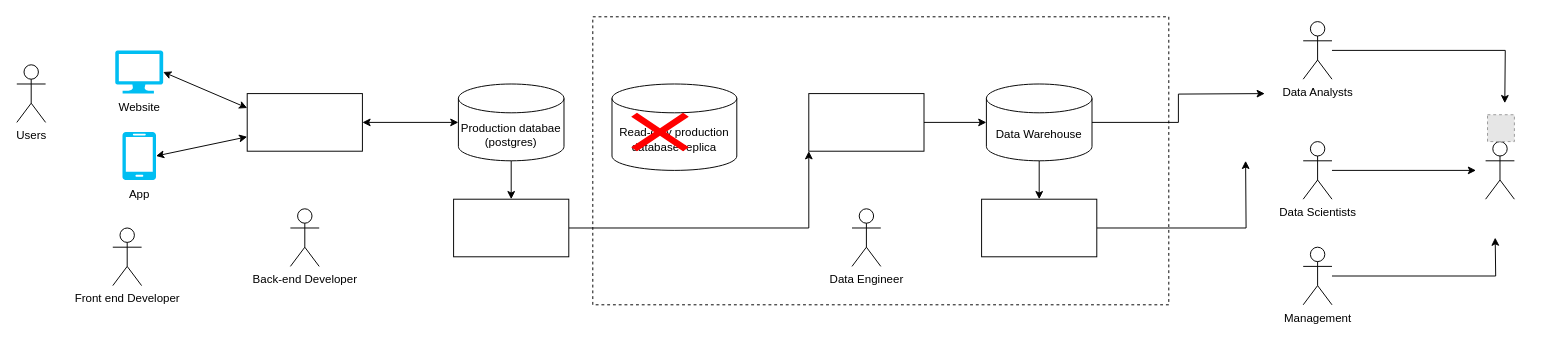
Some shapes in this 1563 by 342 pixel diagram are drawn without their labels. Grey dashed boxes stand in for pictures. Here are the shapes that lost their labels. From the top down, the centre of each, then its label:
the point at 304,122: server API
the point at 866,122: ETL
the point at 1499,170: Board of Directors
the point at 511,227: API for third party
the point at 1039,227: API from dwh
